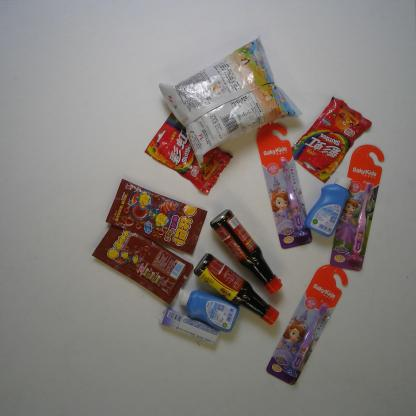Candy: (92, 222, 194, 305), (104, 177, 209, 255), (144, 111, 233, 195), (291, 95, 374, 185), (161, 307, 220, 346)
Personal Hygiene: (264, 264, 348, 386), (256, 122, 314, 250), (329, 144, 385, 272), (303, 175, 355, 239), (177, 285, 239, 334)
Puffed Food: (158, 36, 302, 169)
Seasoner: (209, 209, 284, 296), (193, 252, 280, 326)
